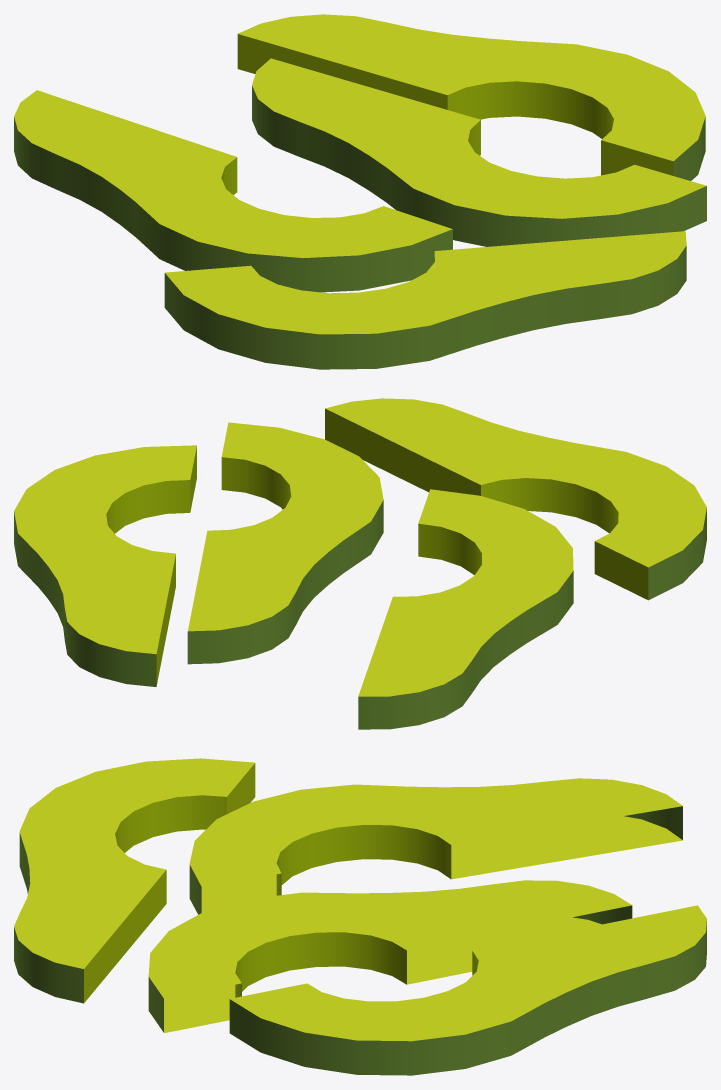
File: Avocado_Slice.glb
The picture shows the model from 3 angles, top to bottom: view 1: azimuth 30°, elevation 25°; view 2: azimuth 150°, elevation 25°; view 3: azimuth 270°, elevation 25°; orthographic projection. The views are drawn at different scales.
Visible parts, largest first — view 1: Avocado_Slice; view 2: Avocado_Slice; view 3: Avocado_Slice.
Part boxes in pixels (x1,y1,x2,y2): Avocado_Slice: (14, 14, 706, 369); Avocado_Slice: (14, 398, 706, 729); Avocado_Slice: (14, 758, 706, 1075).
Bounding box in the file's own units: 17.65 × 0.9998 × 18.28.
Materials: 1 (1 with a texture image).
